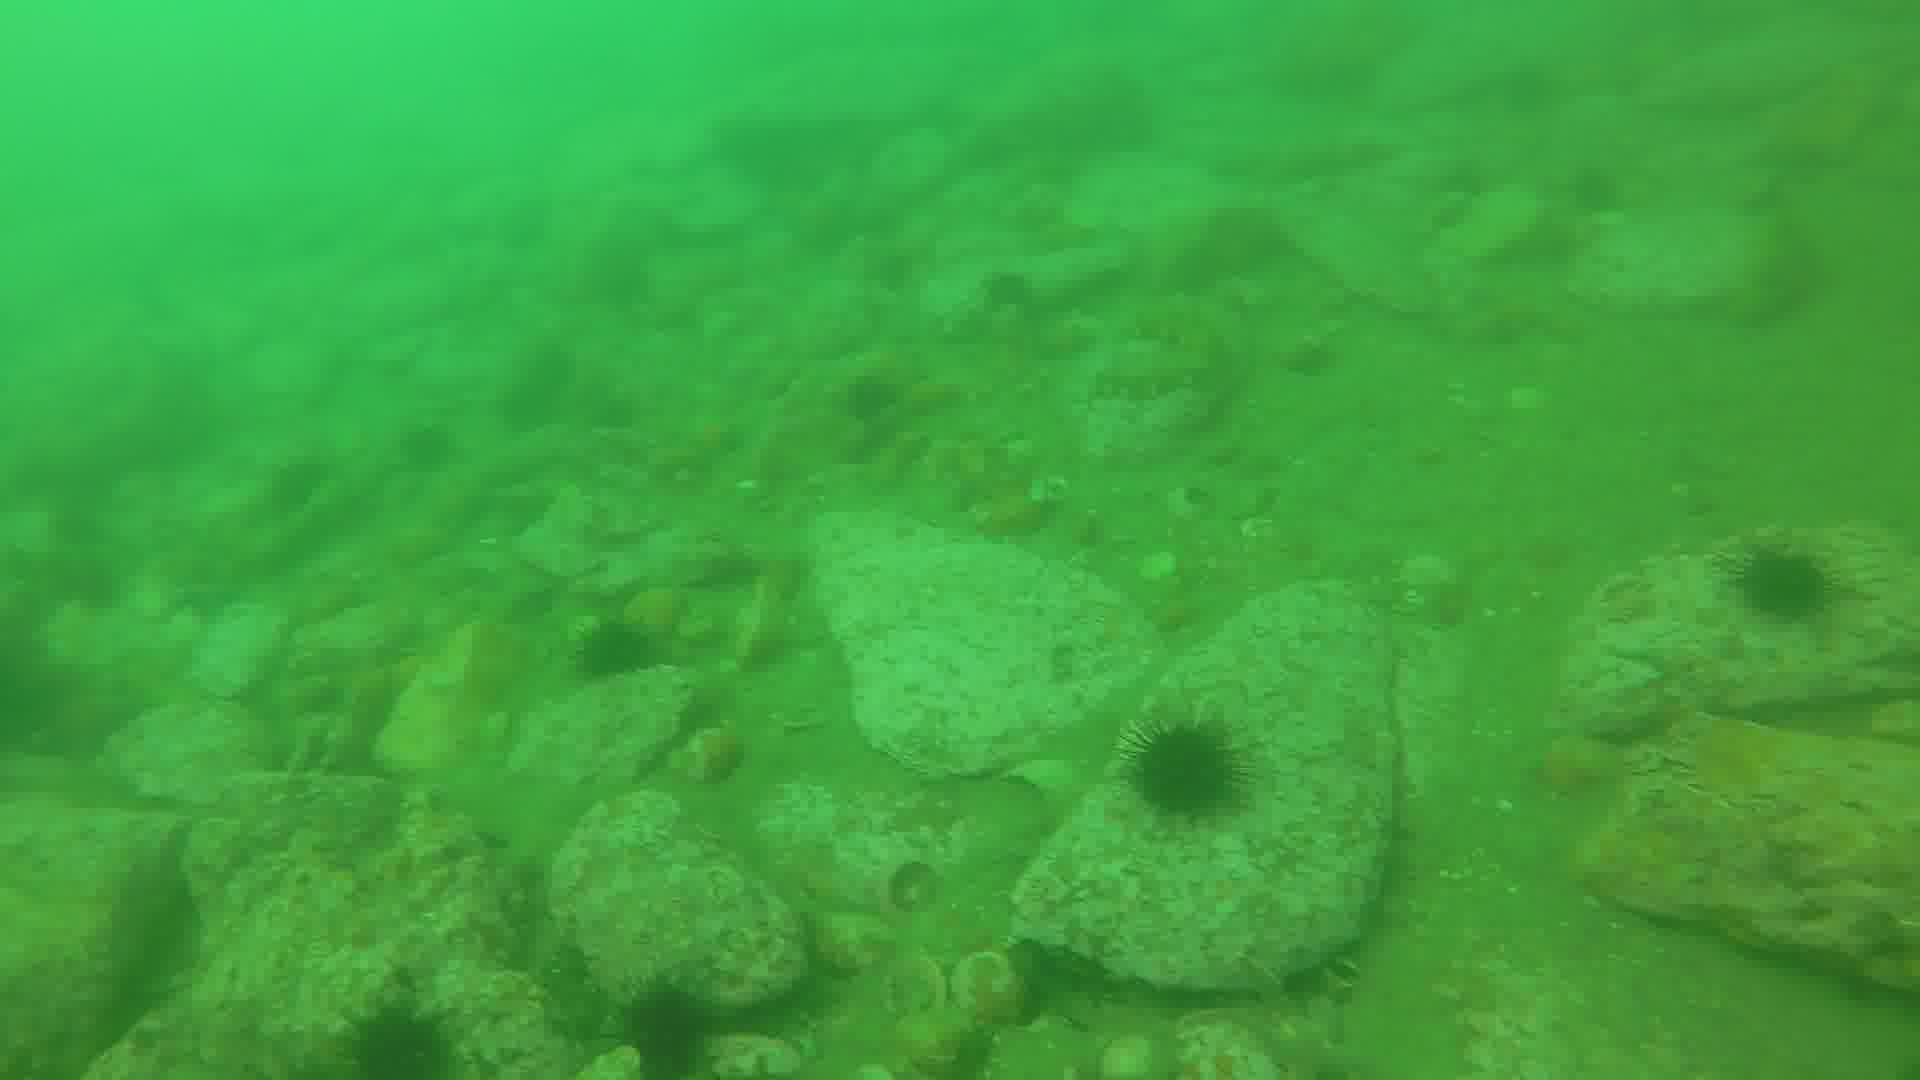echinus: (1131, 715, 1247, 819), (615, 977, 713, 1069), (347, 1001, 456, 1080), (1738, 541, 1840, 618), (574, 622, 658, 684)
